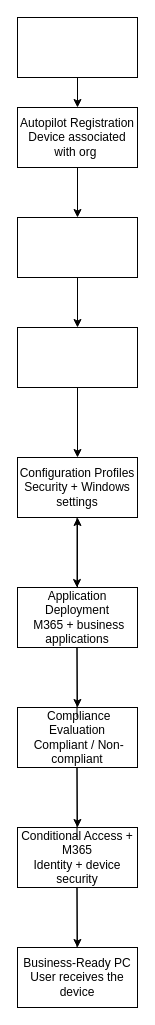
Image size: 155x1025. Some labels were removed from this diagram. The box of each missing label's shape, as (x1, y1, x2, y2) in pixels:
Microsoft Entra Join Device receives identity: (16, 326, 138, 388)
New Corporate Laptop: (16, 16, 138, 78)
OOBE User starts Windows setup: (16, 216, 138, 278)
